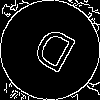D: (25, 25, 79, 83)
